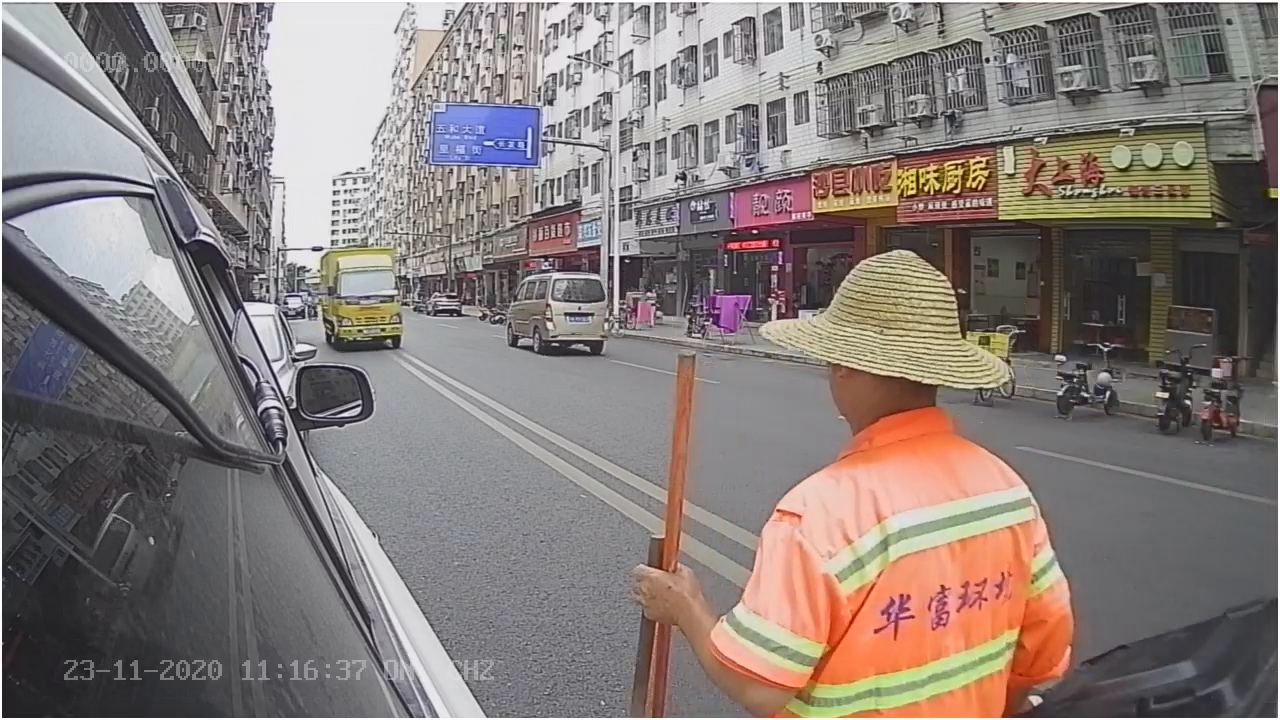person: (707, 247, 1081, 712)
